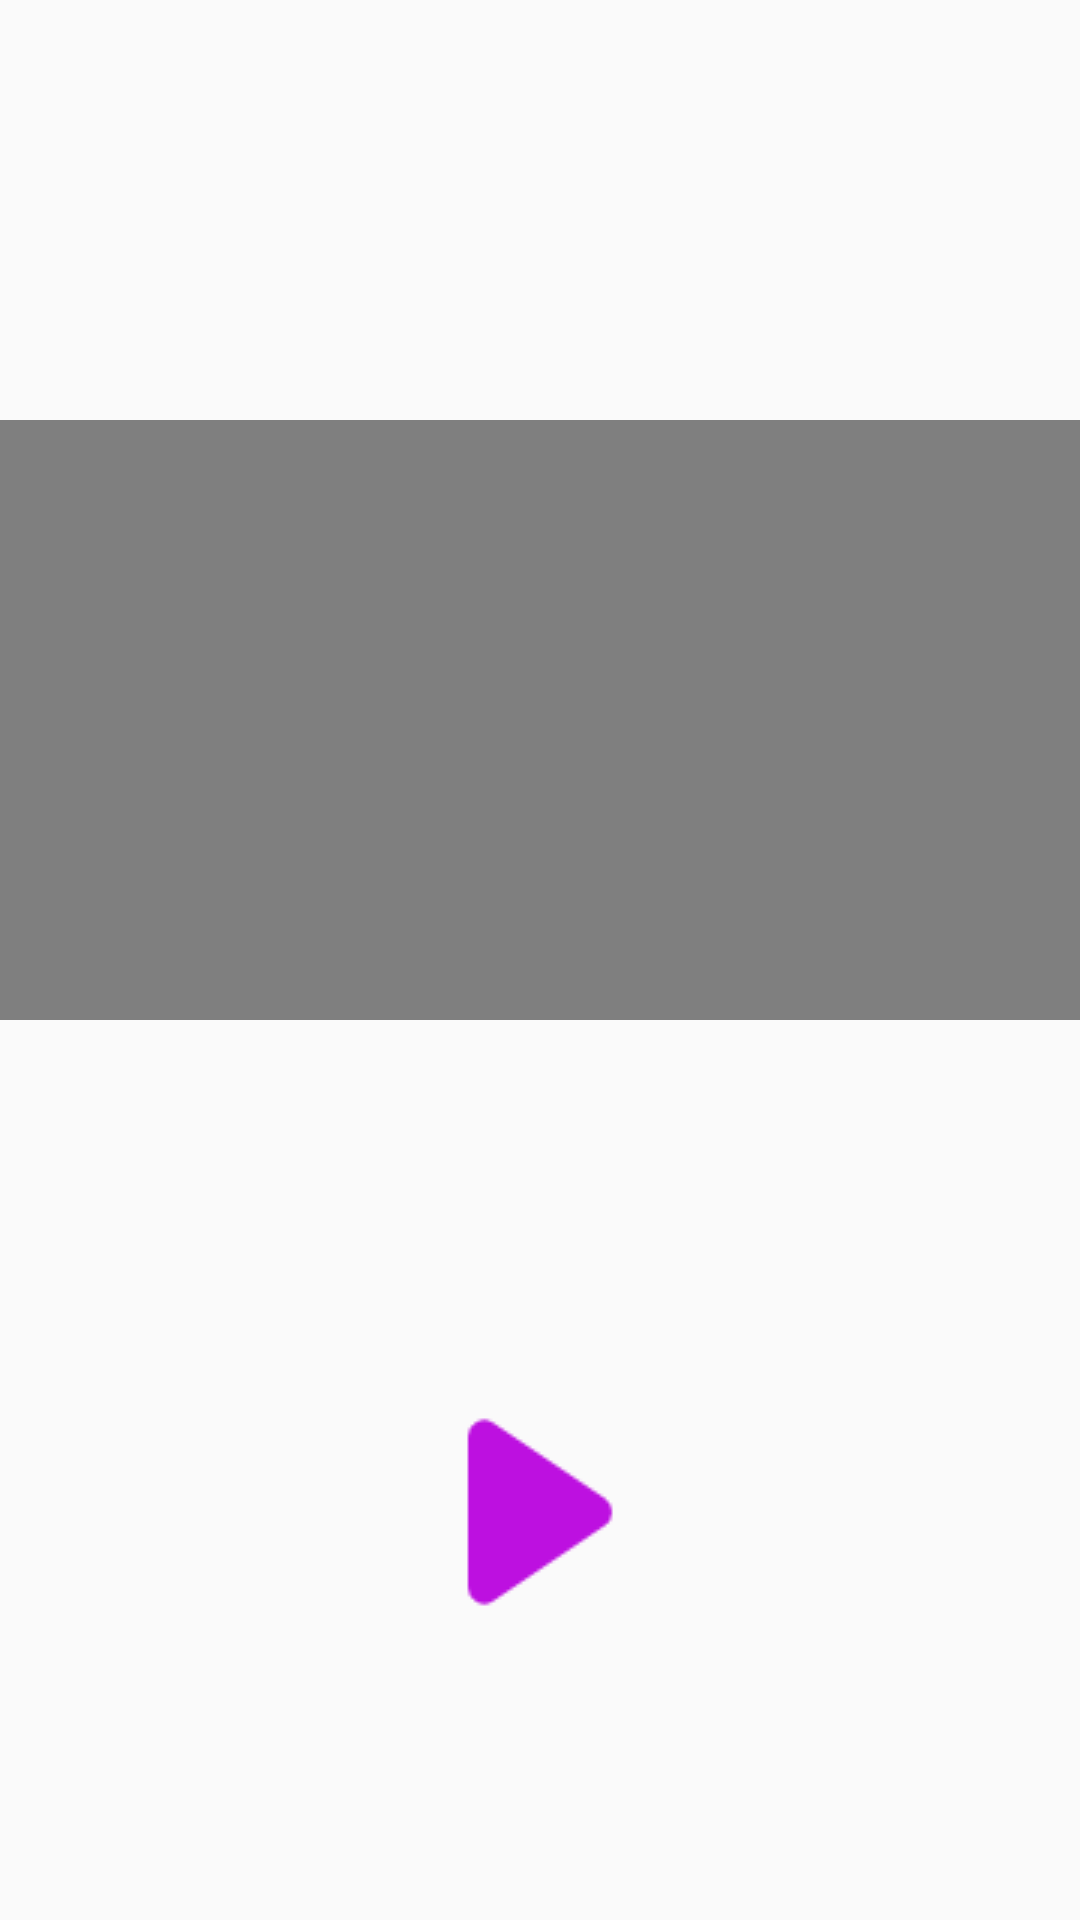

Icons on this 1080px×1920px Android screen, each with the point to tap as (x=x, y=y):
player: (x=540, y=1512)
